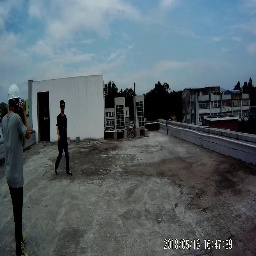helmet: (8, 83, 21, 99)
no-vest: (3, 107, 23, 184), (58, 111, 68, 150)
person: (4, 83, 30, 254), (56, 100, 73, 177)
